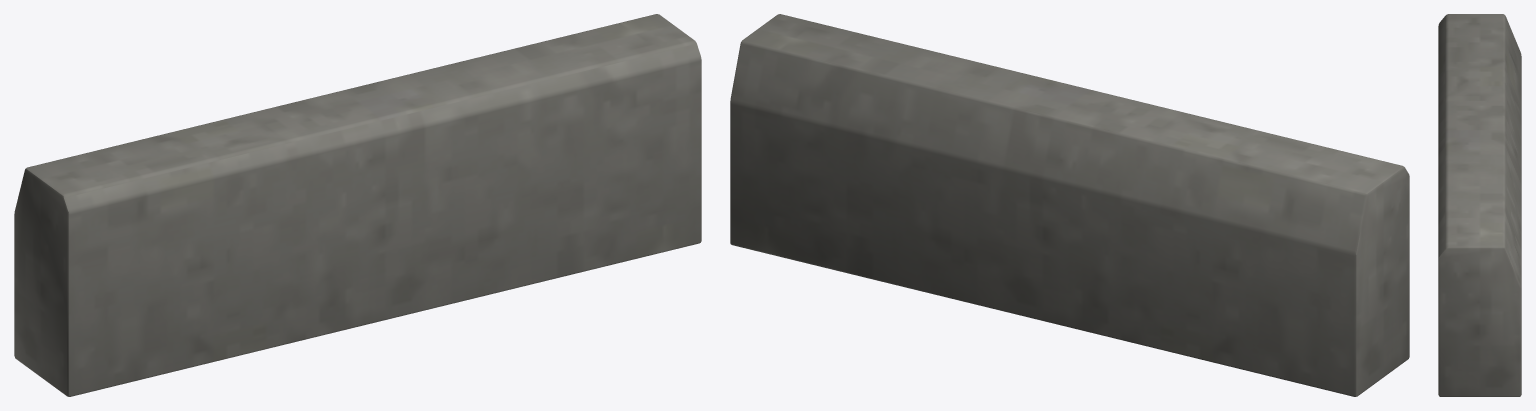
The model's file is PAV-GUI-001_lod1.glb.
The picture shows the model from 3 angles, left to right: view 1: azimuth 30°, elevation 25°; view 2: azimuth 150°, elevation 25°; view 3: azimuth 270°, elevation 25°; orthographic projection. The views are drawn at different scales.
Visible parts, largest first — view 1: PAV-GUI-001_peca; view 2: PAV-GUI-001_peca; view 3: PAV-GUI-001_peca.
Boxes of the visible parts, x1,y1,x2,y2 form: PAV-GUI-001_peca: (14,14,701,396); PAV-GUI-001_peca: (730,14,1409,396); PAV-GUI-001_peca: (1438,14,1521,396).
Bounding box in the file's own units: 1 × 0.3 × 0.15.
Materials: 1 (1 with a texture image).
